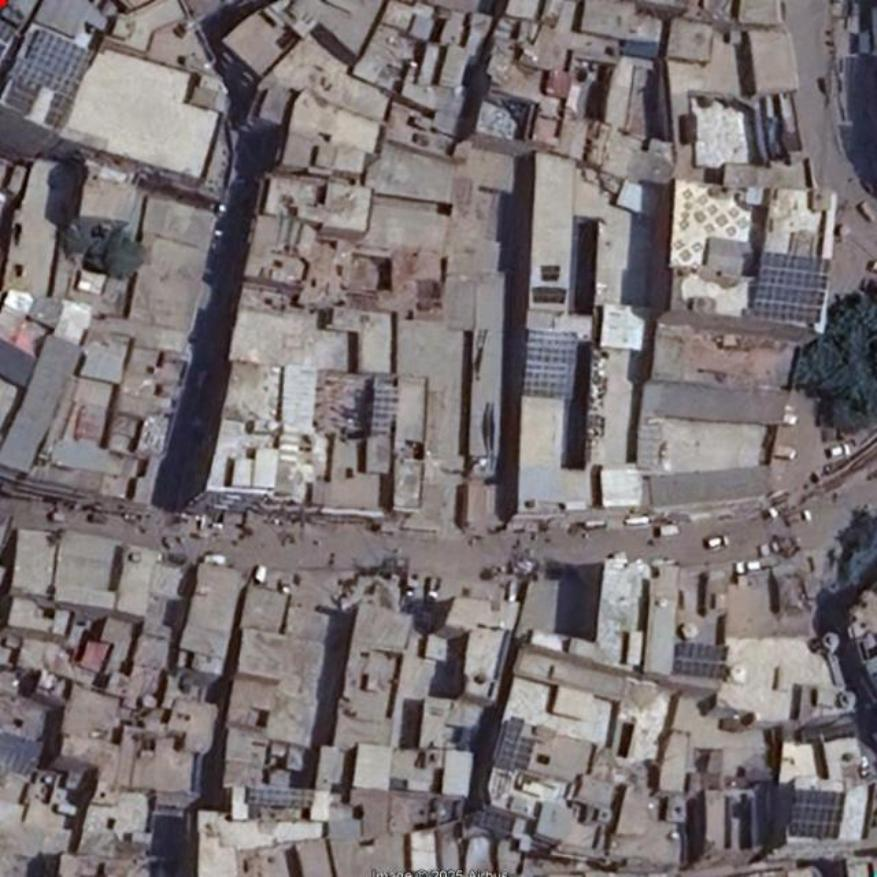Solarpanel: (18, 29, 95, 101), (753, 253, 831, 324), (525, 332, 576, 395), (788, 786, 845, 840), (673, 643, 727, 677), (495, 718, 523, 770), (247, 787, 315, 806), (514, 738, 533, 771)
